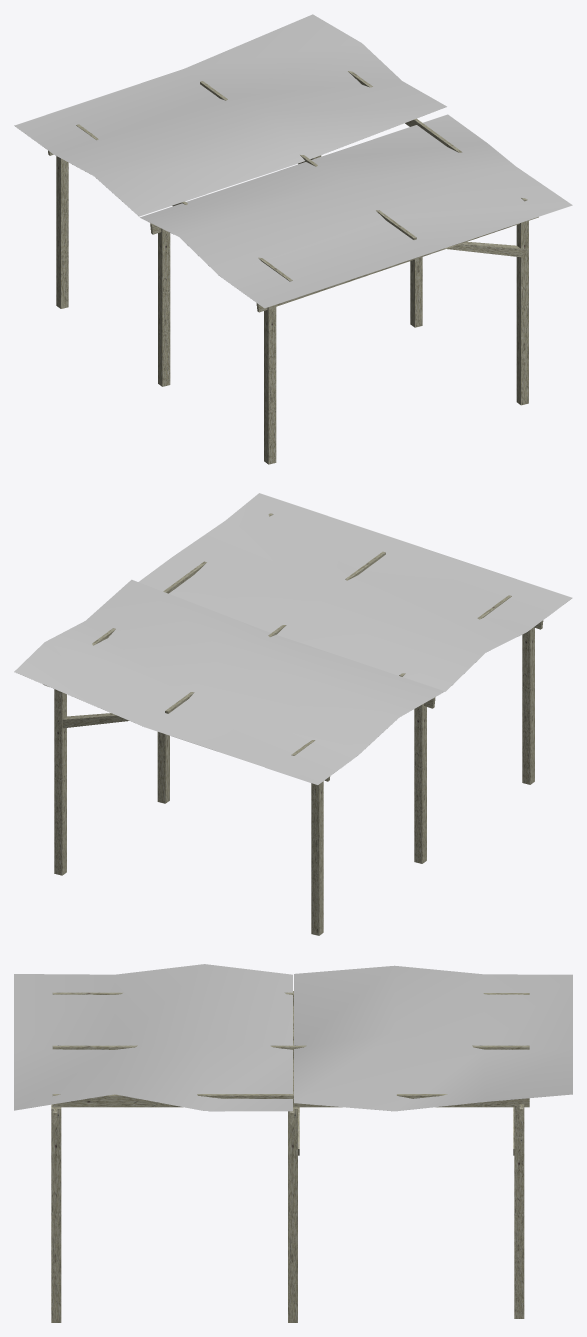
The model's file is PoleBuilding01.DAE.
3 views of the same model, one above another, from view 1: azimuth 30°, elevation 25°; view 2: azimuth 150°, elevation 25°; view 3: azimuth 270°, elevation 25° (orthographic). The views are drawn at different scales.
Parts seen in each view (by area): view 1: PoleBuildingOne256; view 2: PoleBuildingOne256; view 3: PoleBuildingOne256.
Part boxes in pixels (x1=…): PoleBuildingOne256: x1=14, y1=14, x2=572, y2=464; PoleBuildingOne256: x1=14, y1=493, x2=572, y2=935; PoleBuildingOne256: x1=14, y1=964, x2=572, y2=1322.
Size of what is drawn, in the model's own units: 5.91 by 8.32 by 3.91.
